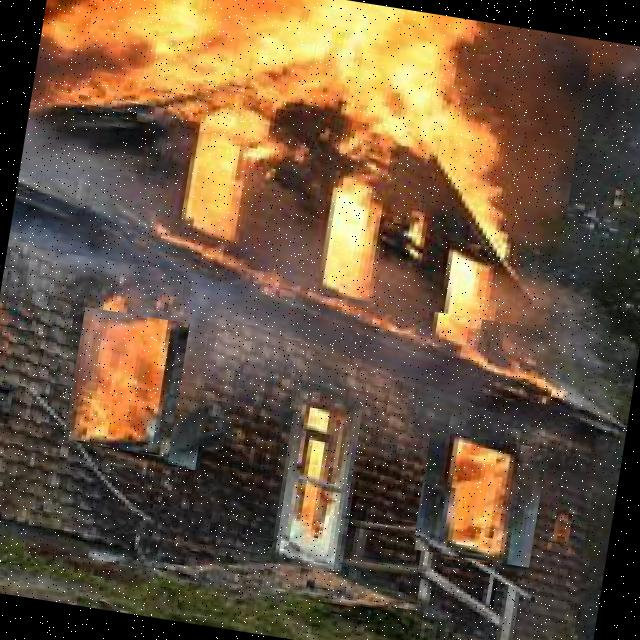fire: (8, 0, 594, 330), (64, 307, 190, 457), (412, 430, 548, 568)
